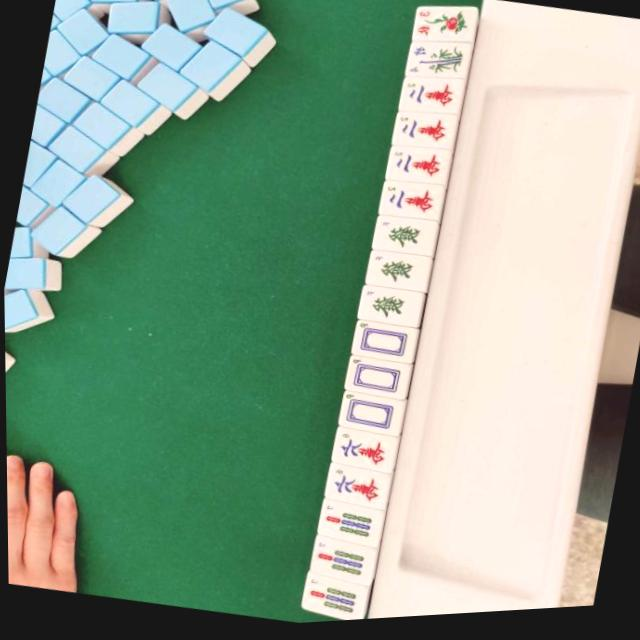bf4: (405, 39, 469, 88)
bs3: (415, 8, 476, 50)
hdg: (357, 286, 423, 334), (365, 250, 430, 298), (372, 216, 436, 264)
hdw: (351, 321, 417, 368), (337, 394, 404, 440), (343, 359, 411, 403)
sb7: (317, 503, 380, 546), (309, 541, 371, 584), (302, 579, 361, 620)
sc2: (385, 145, 452, 194), (377, 181, 444, 229), (391, 110, 458, 158), (398, 76, 463, 124)
sc6: (330, 429, 396, 475), (325, 466, 388, 510)
